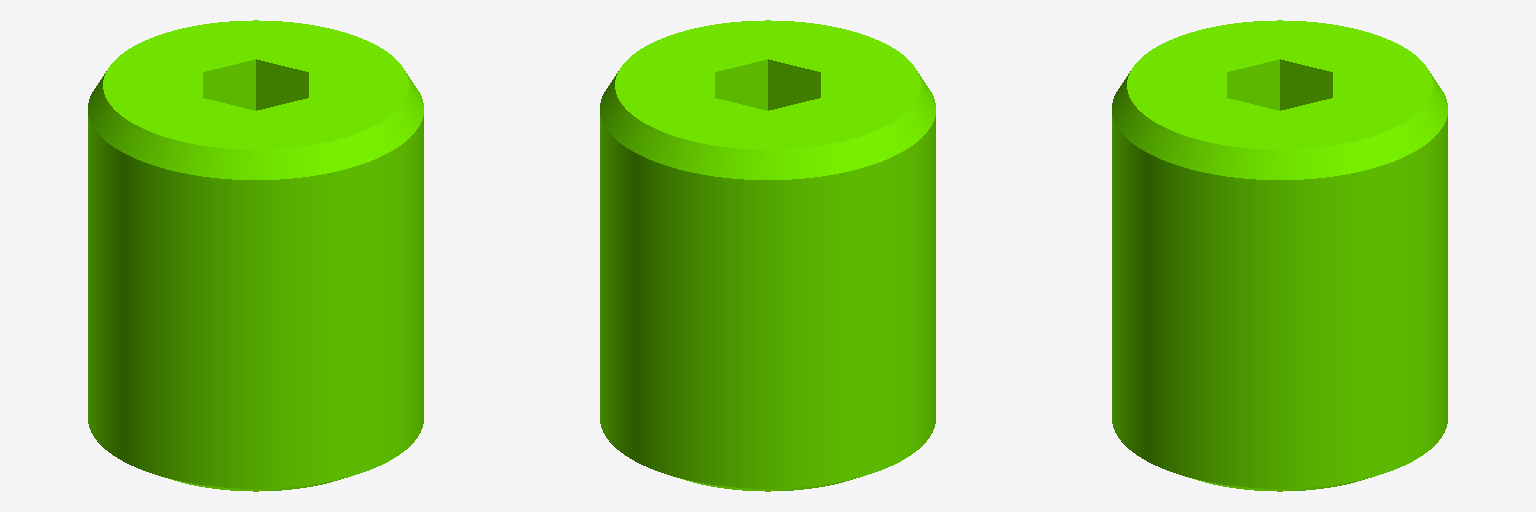
The robot description file, URDF, robot "peg_round":
<?xml version="1.0" ?>
<robot name="peg_round">
  <link name="peg_link">
    <contact>
      <lateral_friction value="1.0"/>
      <rolling_friction value="0.5"/>
      <contact_cfm value="0.0"/>
      <contact_erp value="1.0"/>
    </contact>
    <inertial>
      <origin rpy="0 0 0" xyz="-0.0225 0.0225 0.06"/>
        <mass value="0.1"/>
        <inertia ixx="0.01" ixy="0" ixz="0" iyy="0.01" iyz="0" izz="0.01"/>
    </inertial>
    <visual>
      <origin rpy="3.14159265359 0 0" xyz="-0.0225 0.0225 0.052"/>
      <geometry>
			  <mesh filename="meshes/peg/peg_round.STL" scale="0.001 0.001 0.001"/>
      </geometry>
      <material name="green">
        <color rgba="0.5 1 0 1"/>
      </material>
    </visual>
    <collision>
      <origin rpy="3.14159265359 0 0" xyz="-0.0225 0.0225 0.052"/>
      <geometry>
	 	    <mesh filename="meshes/peg/peg_round.STL" scale="0.001 0.001 0.001"/>
      </geometry>
    </collision>
  </link>
  <link name="peg_target_link">
    <inertial>
      <mass value="0" />
      <origin rpy="0 0 0" xyz="0.0 0.0 0.0" />
      <inertia ixx="0.0" ixy="0.0" ixz="0.0" iyy="0.0" iyz="0.0" izz="0.0" />
    </inertial>
  </link>
  <joint name="peg_link-peg_target_link" type="fixed">
    <parent link="peg_link"/>
    <child link="peg_target_link"/>
    <origin rpy="0.0 0.0 0.0" xyz="0.0 0.0 0.052"/>
  </joint>
</robot>

--- Render facts (derived) ---
The picture shows the robot from 3 angles, left to right: view 1: azimuth 30°, elevation 25°; view 2: azimuth 150°, elevation 25°; view 3: azimuth 270°, elevation 25°; orthographic projection.
Robot: peg_round — 2 links, 1 joints (1 fixed); root link peg_link; default pose: all joints at 0.
Links seen in each view (by area): view 1: peg_link; view 2: peg_link; view 3: peg_link.
Link boxes in pixels (x1,y1,x2,y2): peg_link: (88, 20, 423, 491); peg_link: (600, 20, 935, 491); peg_link: (1112, 20, 1447, 491).
Bounding box of the posed robot: 0.044 × 0.044 × 0.05 m (x, y, z).
1 mesh visuals loaded from 1 distinct referenced files (1 binary STL).